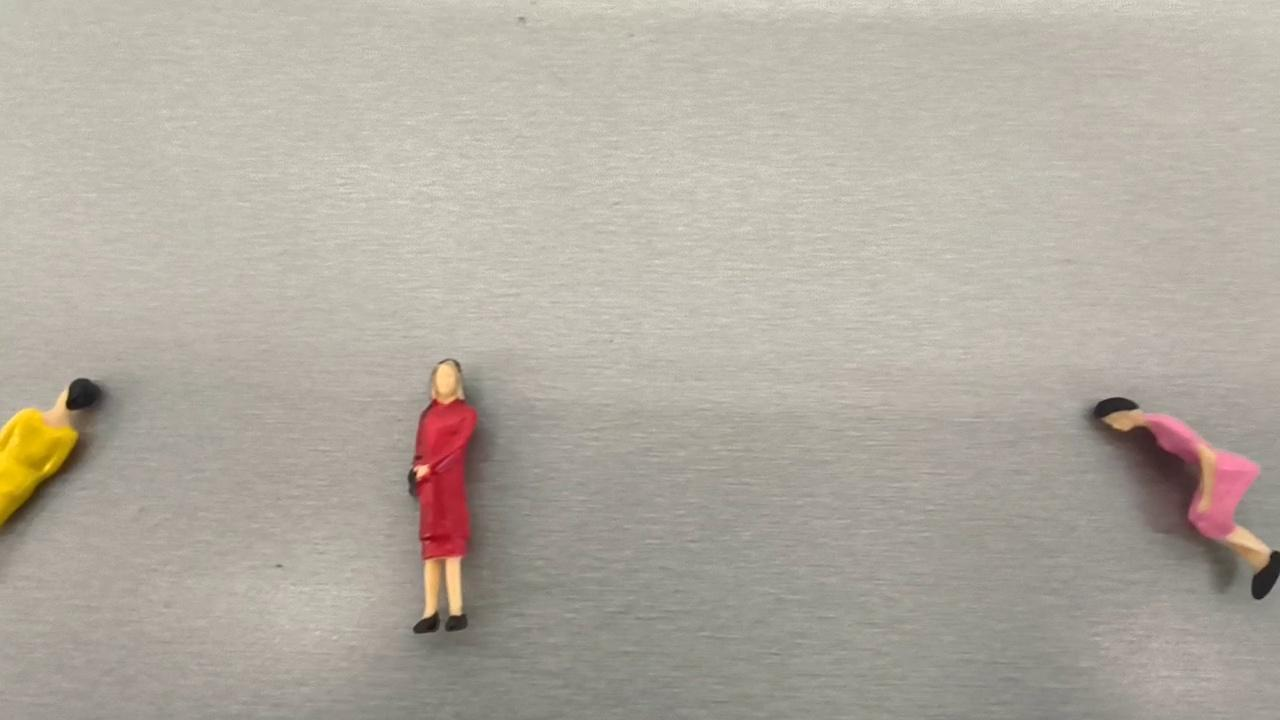human: (1096, 396, 1280, 600), (406, 359, 479, 635), (0, 374, 103, 531)
